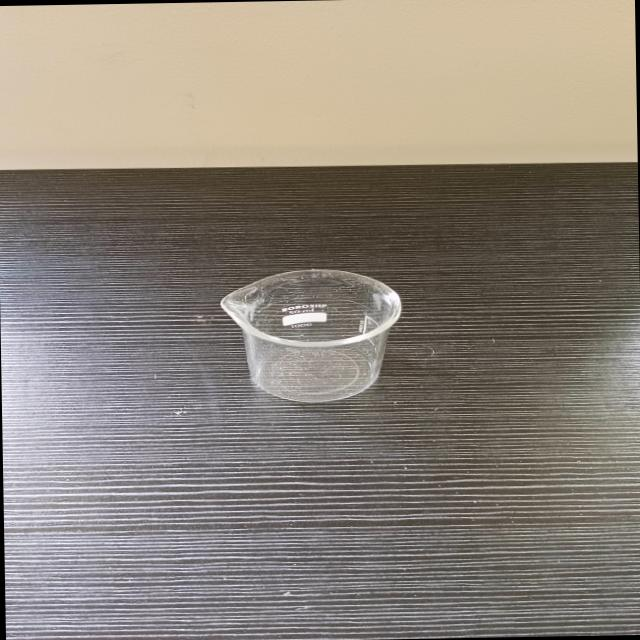beaker: (212, 261, 412, 408)
